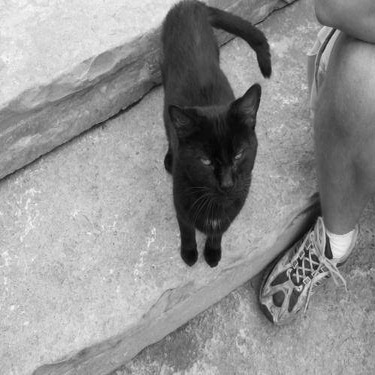cat: (155, 1, 272, 268)
